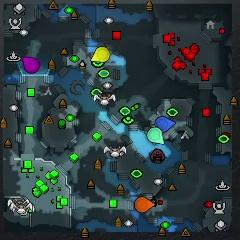p1: (155, 116, 176, 132)
p2: (147, 127, 164, 144)
p3: (22, 56, 40, 74)
p4: (91, 47, 111, 62)
p5: (134, 197, 155, 212)
